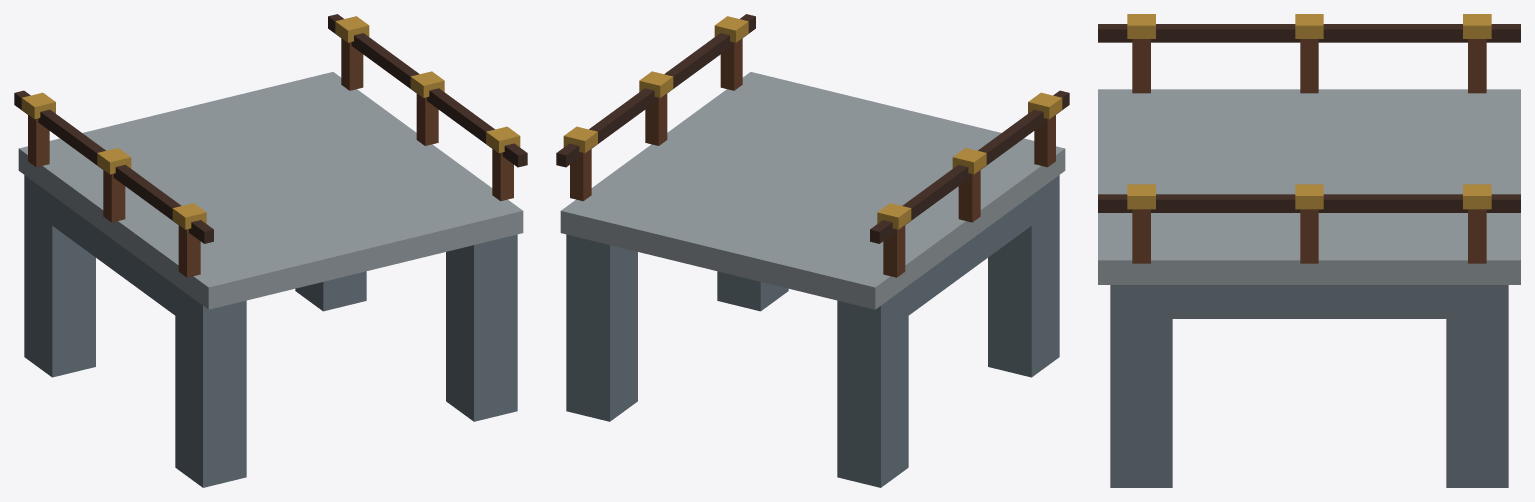
Rendered from Blockland_TerraceBridge_Standard.glb.
The picture shows the model from 3 angles, left to right: view 1: azimuth 30°, elevation 25°; view 2: azimuth 150°, elevation 25°; view 3: azimuth 270°, elevation 25°; orthographic projection. The views are drawn at different scales.
Parts seen in each view (by area): view 1: Blockland_TerraceBridge_Standard; view 2: Blockland_TerraceBridge_Standard; view 3: Blockland_TerraceBridge_Standard.
Boxes of the visible parts, x1,y1,x2,y2 form: Blockland_TerraceBridge_Standard: (14,14,527,487); Blockland_TerraceBridge_Standard: (556,14,1069,487); Blockland_TerraceBridge_Standard: (1098,14,1520,487).
Size of the model in its own units: 3.46 by 2.64 by 3.4.
